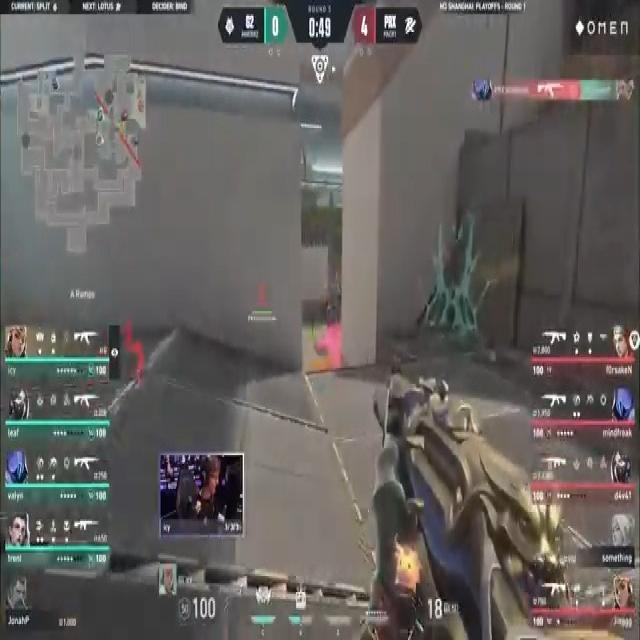enemy behind wall: (132, 336, 146, 384)
